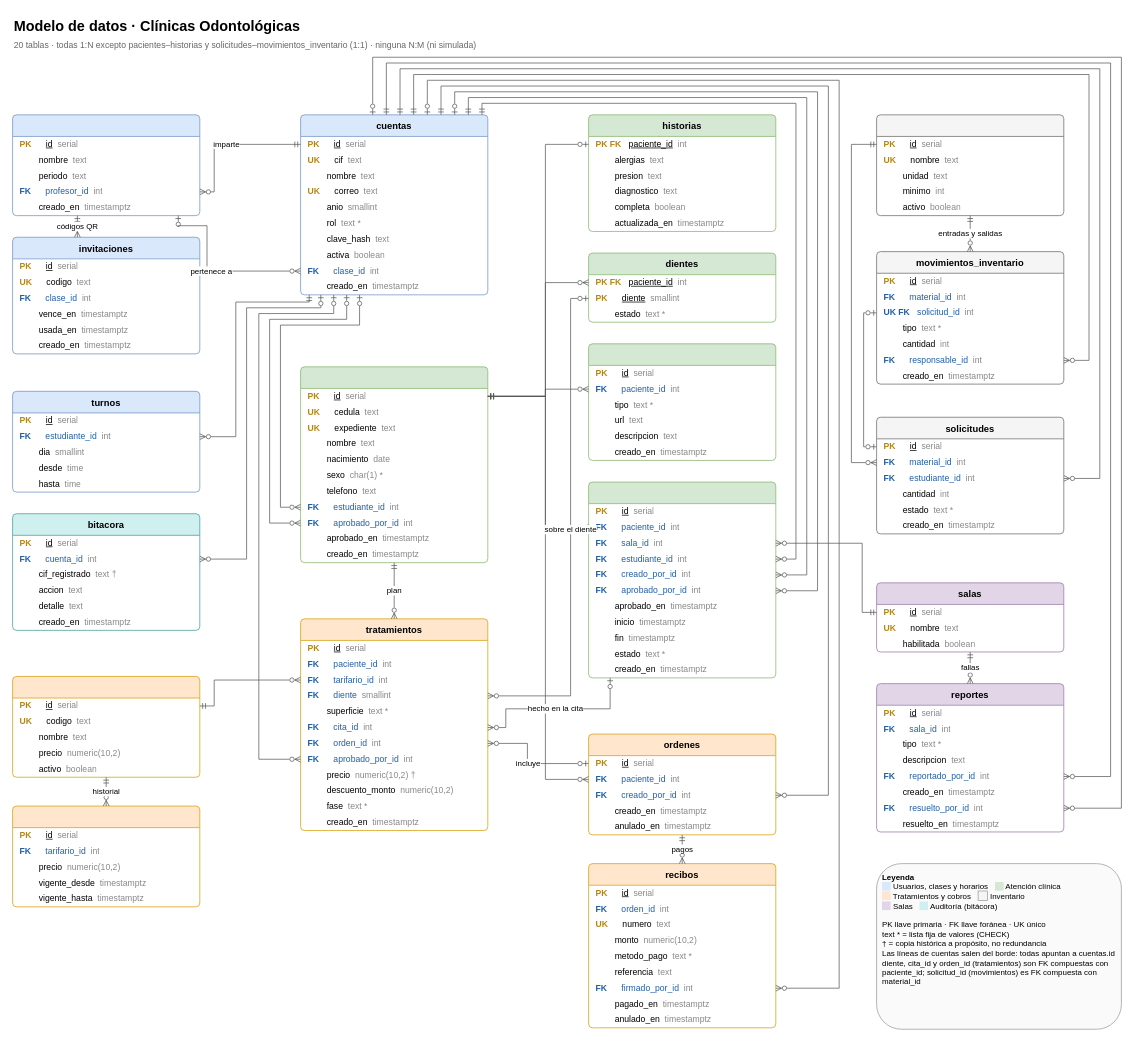
Some shapes in this 1140 by 1042 pixel diagram are drawn without their labels. The shapes that lost their labels are listed below. From the top down, each one's box as (x1, y1, x2, y2) in pixels, then its label:
(12, 114, 200, 216): clases
(876, 114, 1064, 216): materiales
(588, 343, 776, 460): fotos
(300, 366, 488, 563): pacientes
(588, 481, 776, 678): citas
(12, 676, 200, 777): tarifario
(12, 805, 200, 907): precios_anteriores
